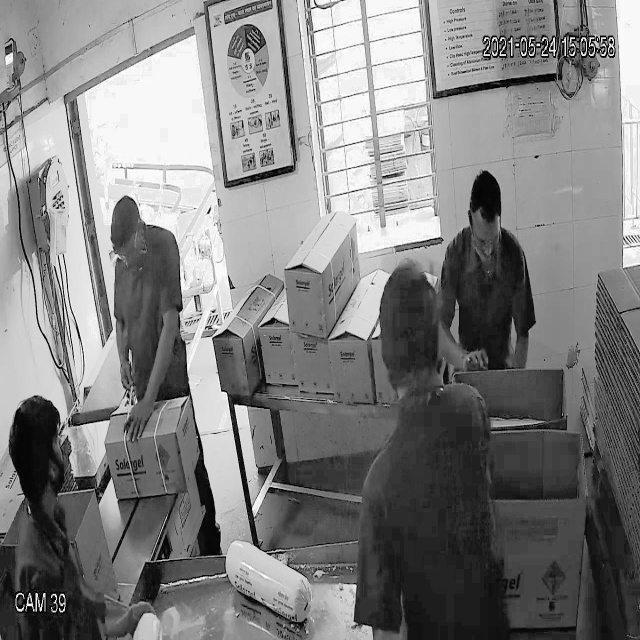Gafas: (112, 231, 143, 267)
